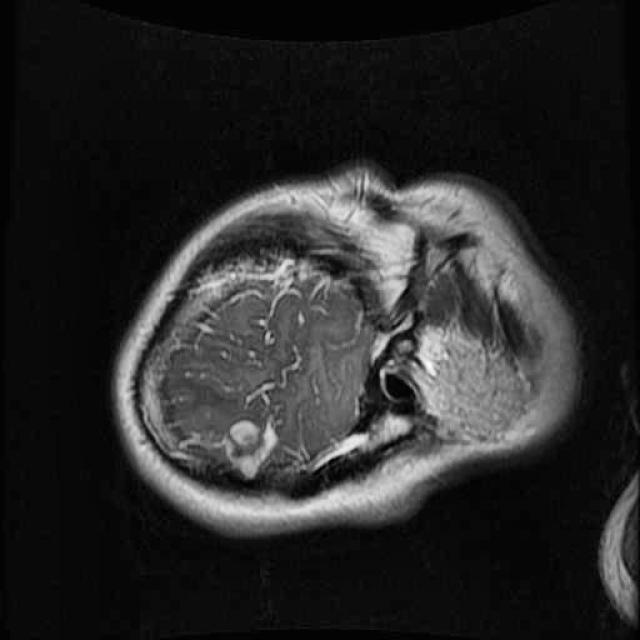Tumor: (218, 402, 282, 472)
